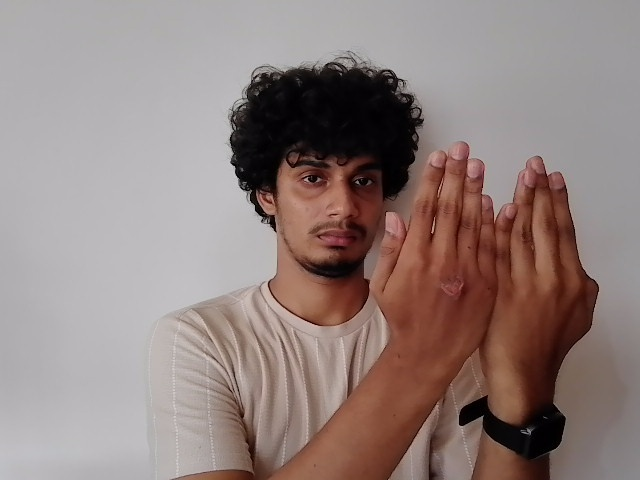school: (368, 137, 596, 365)
